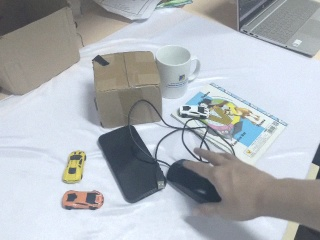book: (169, 81, 288, 160)
box: (1, 1, 83, 98), (92, 50, 165, 128)
cup: (155, 43, 198, 101)
mouse: (164, 158, 224, 206)
phone: (97, 125, 167, 205)
toy_car: (61, 189, 104, 211), (62, 149, 87, 183), (179, 102, 209, 120)
